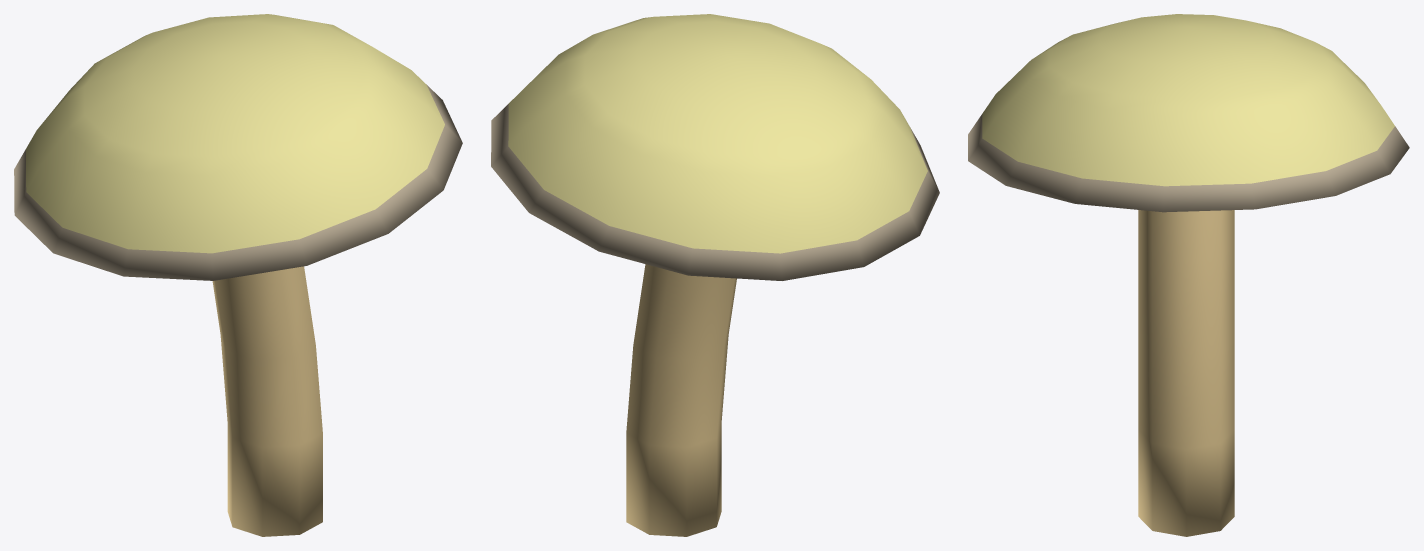
Rendered from PagankaMushroom.fbx.
The picture shows the model from 3 angles, left to right: view 1: azimuth 30°, elevation 25°; view 2: azimuth 150°, elevation 25°; view 3: azimuth 270°, elevation 25°; orthographic projection. The views are drawn at different scales.
Visible parts, largest first — view 1: Cylinder.018; view 2: Cylinder.018; view 3: Cylinder.018.
Part boxes in pixels (x1,y1,x2,y2): Cylinder.018: [14, 14, 462, 536]; Cylinder.018: [491, 14, 939, 536]; Cylinder.018: [968, 14, 1409, 536].
Size of the model in its own units: 12.2 by 14.18 by 12.25.
